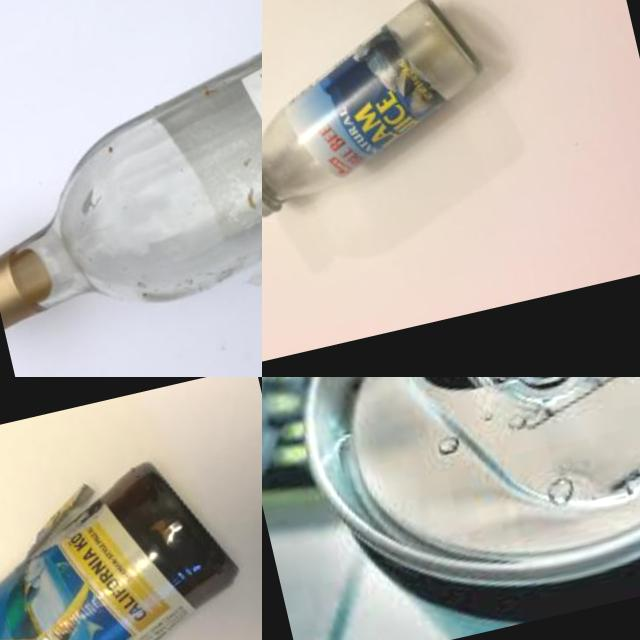garrafa de vidro: (0, 0, 262, 331), (262, 0, 502, 220), (0, 443, 262, 640)
lata: (263, 377, 640, 640)
